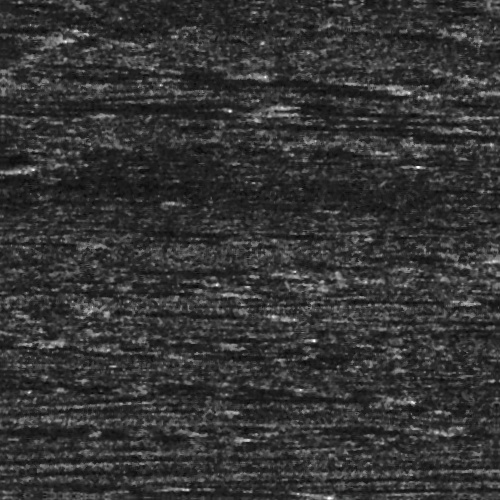object: (299, 76, 424, 87), (210, 398, 241, 421), (5, 38, 78, 47), (157, 431, 240, 438), (369, 120, 462, 125), (222, 109, 305, 114), (416, 106, 479, 111), (237, 99, 290, 104), (0, 165, 13, 180), (281, 491, 334, 494), (497, 115, 500, 122)
shadow: (86, 398, 225, 421), (104, 76, 362, 87), (0, 431, 198, 438), (67, 99, 263, 104), (68, 109, 263, 114), (228, 120, 416, 125), (391, 115, 500, 122), (323, 106, 447, 111), (408, 125, 500, 130), (164, 491, 307, 494), (450, 313, 500, 320), (390, 293, 454, 296)
